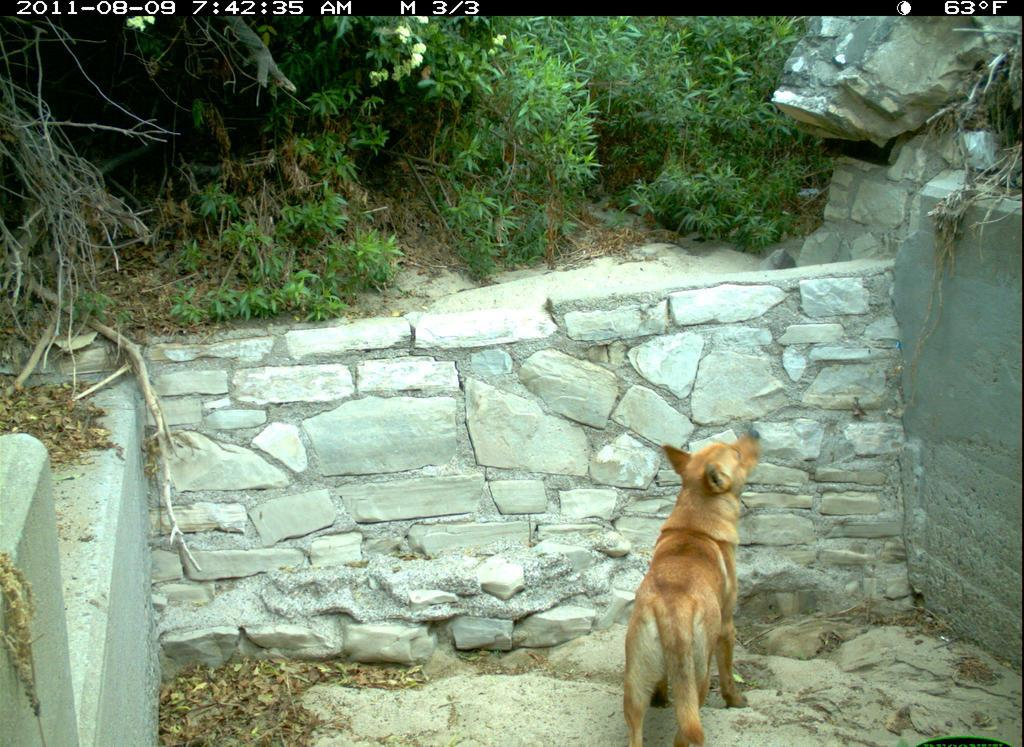dog: (610, 425, 772, 740)
